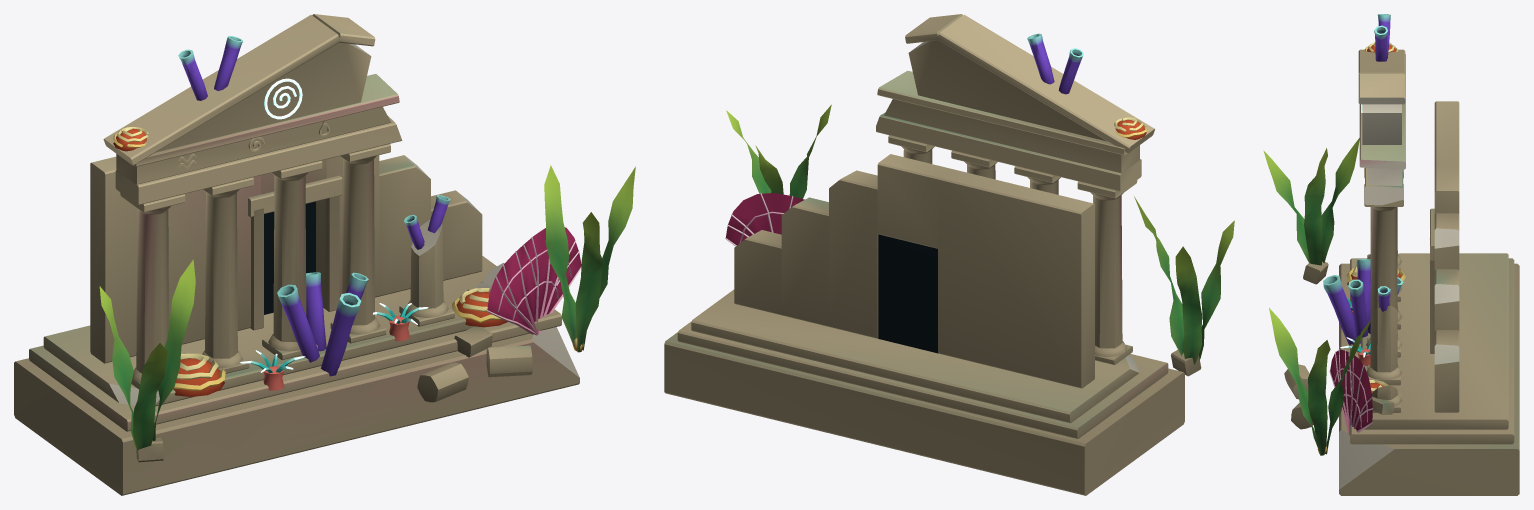
The model's file is sunken_temple.glb.
3 renders of one model, left to right at view 1: azimuth 30°, elevation 25°; view 2: azimuth 150°, elevation 25°; view 3: azimuth 270°, elevation 25°, orthographic. The views are drawn at different scales.
Parts seen in each view (by area): view 1: sunken_temple; view 2: sunken_temple; view 3: sunken_temple.
Part boxes in pixels (x1=…): sunken_temple: x1=14, y1=14, x2=635, y2=495; sunken_temple: x1=664, y1=14, x2=1234, y2=495; sunken_temple: x1=1263, y1=14, x2=1519, y2=495.
Bounding box in the file's own units: 18.2 × 13.65 × 9.37.
